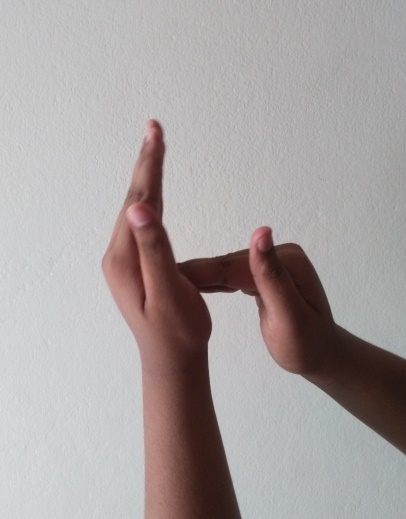ga: (98, 118, 339, 385)
